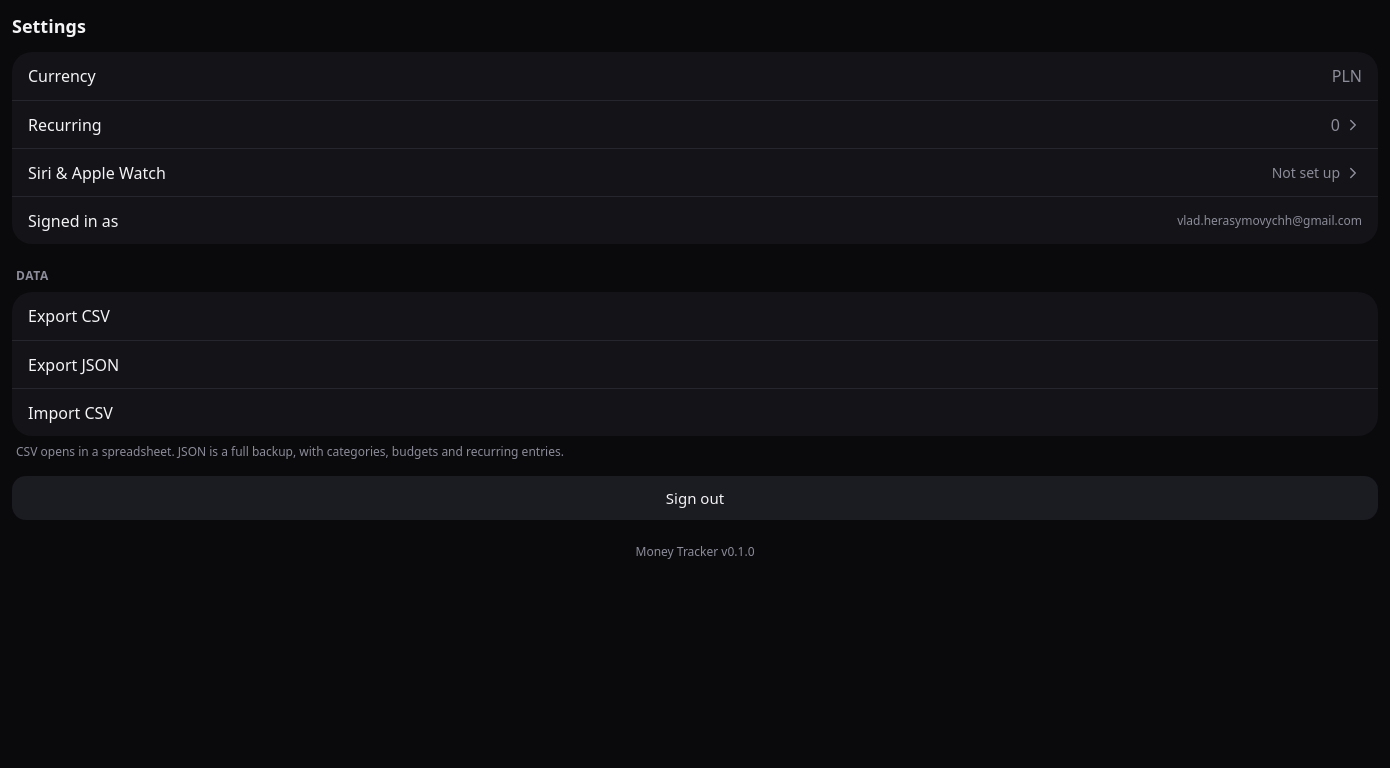
SettingsPage › toasts a generic message when signing out fails
What coordinates should you click on to do the following:
click the button "Sign out"
I would click on:
 (695, 498)
Its box is [12,476,1378,520].
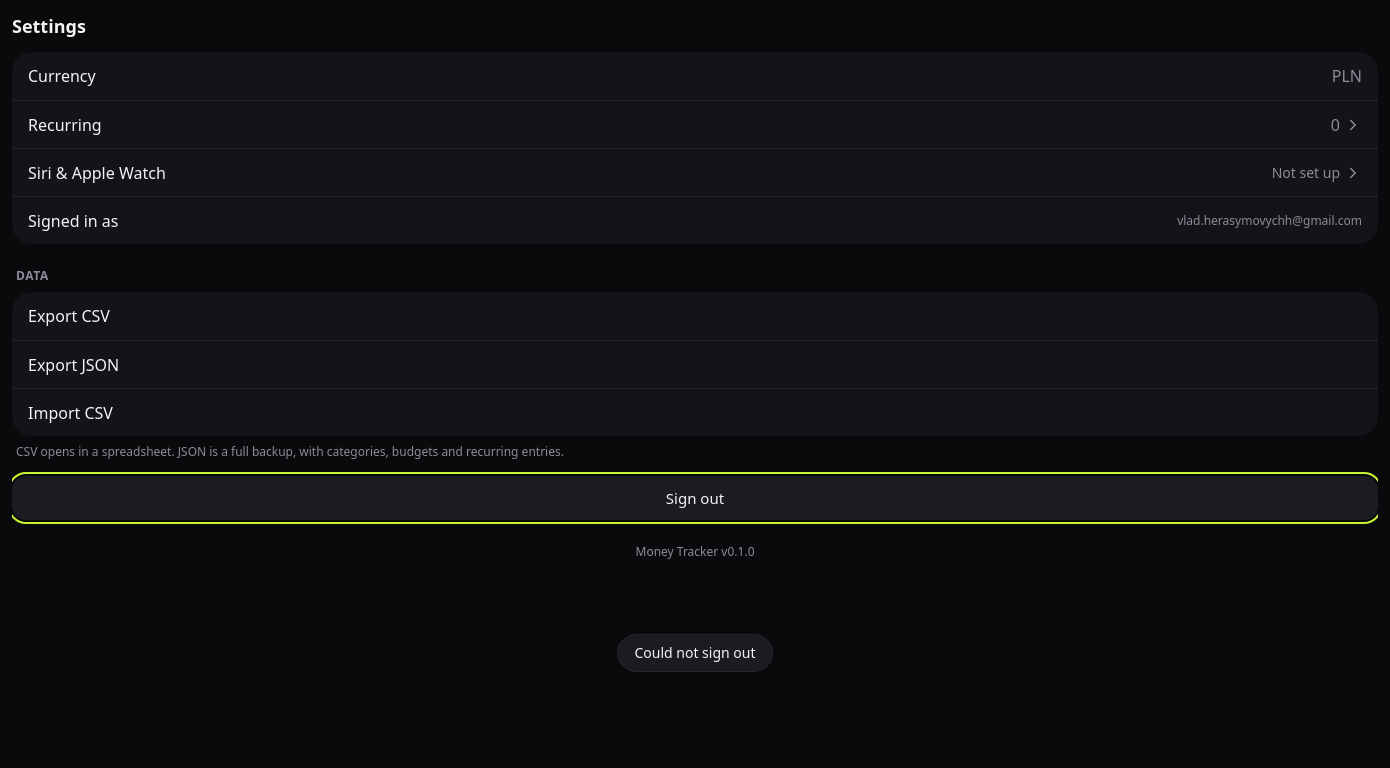
Now the message reads "Could not sign out", box [634,643,756,662]
